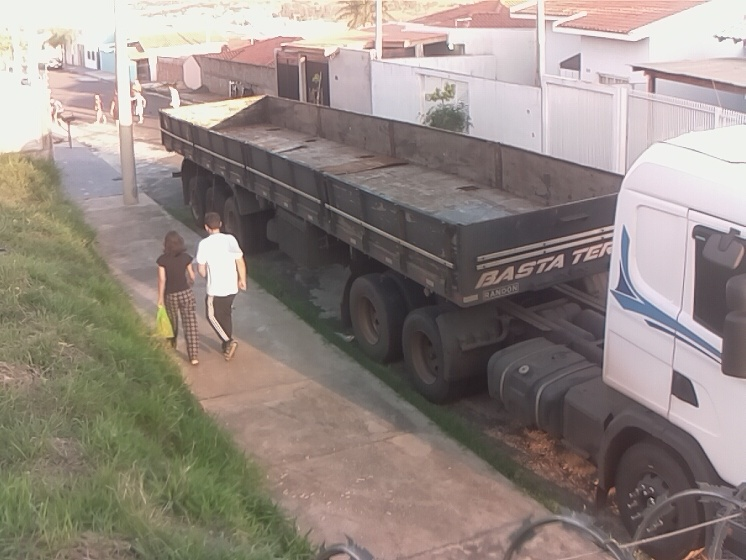person: (192, 210, 250, 364), (155, 228, 204, 366), (129, 89, 147, 127), (129, 78, 143, 117), (93, 92, 109, 126), (166, 82, 182, 110)
